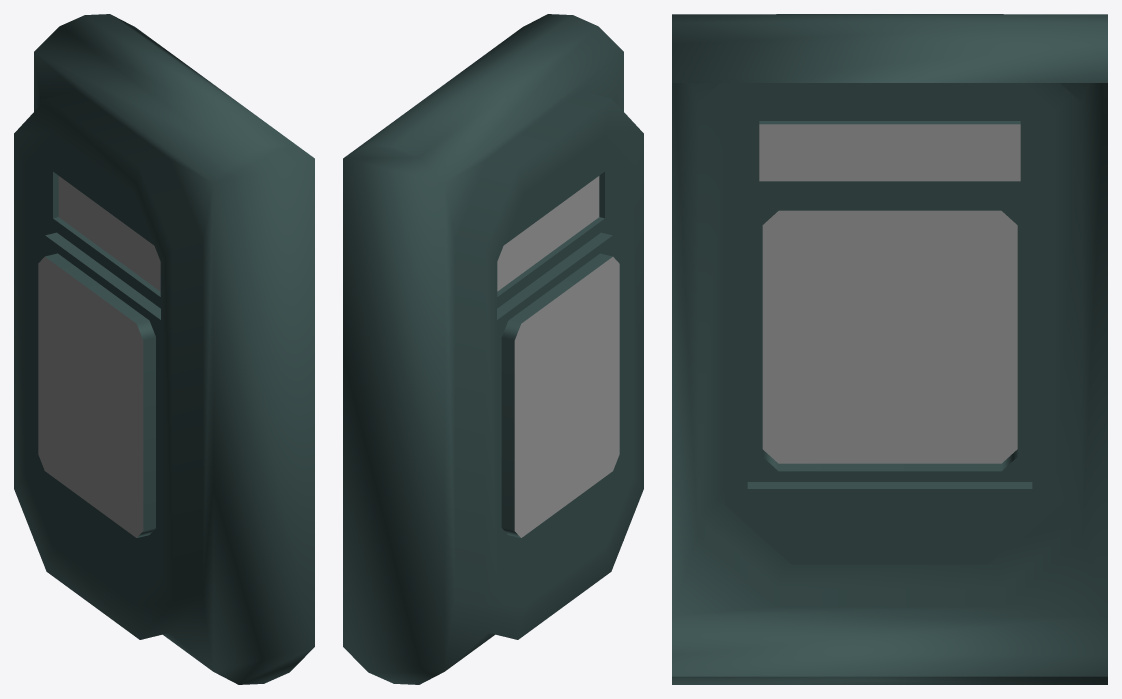
The model's file is Security_terminal.fbx.
3 renders of one model, left to right at view 1: azimuth 30°, elevation 25°; view 2: azimuth 150°, elevation 25°; view 3: azimuth 270°, elevation 25°, orthographic. The views are drawn at different scales.
Visible parts, largest first — view 1: Korpus, Panel, Small_sreen; view 2: Korpus, Panel, Small_sreen; view 3: Korpus, Panel, Small_sreen.
Part boxes in pixels (x1=…): Korpus: x1=14, y1=14, x2=314, y2=684; Panel: x1=38, y1=257, x2=143, y2=537; Small_sreen: x1=58, y1=176, x2=160, y2=291; Korpus: x1=343, y1=14, x2=643, y2=684; Panel: x1=514, y1=257, x2=619, y2=537; Small_sreen: x1=497, y1=176, x2=599, y2=291; Korpus: x1=672, y1=14, x2=1107, y2=684; Panel: x1=762, y1=210, x2=1017, y2=463; Small_sreen: x1=759, y1=124, x2=1020, y2=181.
Bounding box in the file's own units: 17.59 × 67.24 × 40.68.
